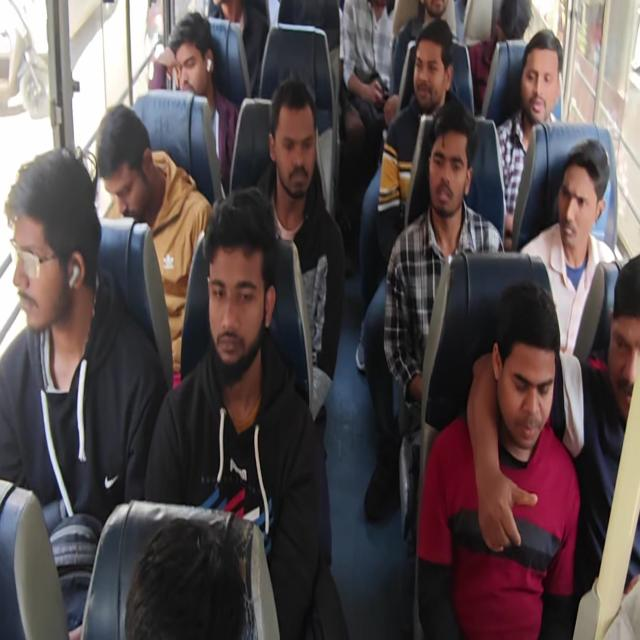person: (1, 1, 638, 638), (143, 187, 344, 638), (0, 146, 168, 636), (466, 252, 640, 630), (416, 280, 582, 638), (252, 76, 346, 568), (383, 98, 505, 420), (355, 18, 460, 370), (96, 103, 213, 386), (519, 139, 620, 363), (123, 516, 255, 639), (156, 10, 239, 192), (495, 28, 564, 244), (339, 0, 398, 141), (467, 0, 532, 114), (391, 0, 457, 107), (208, 0, 270, 96)
